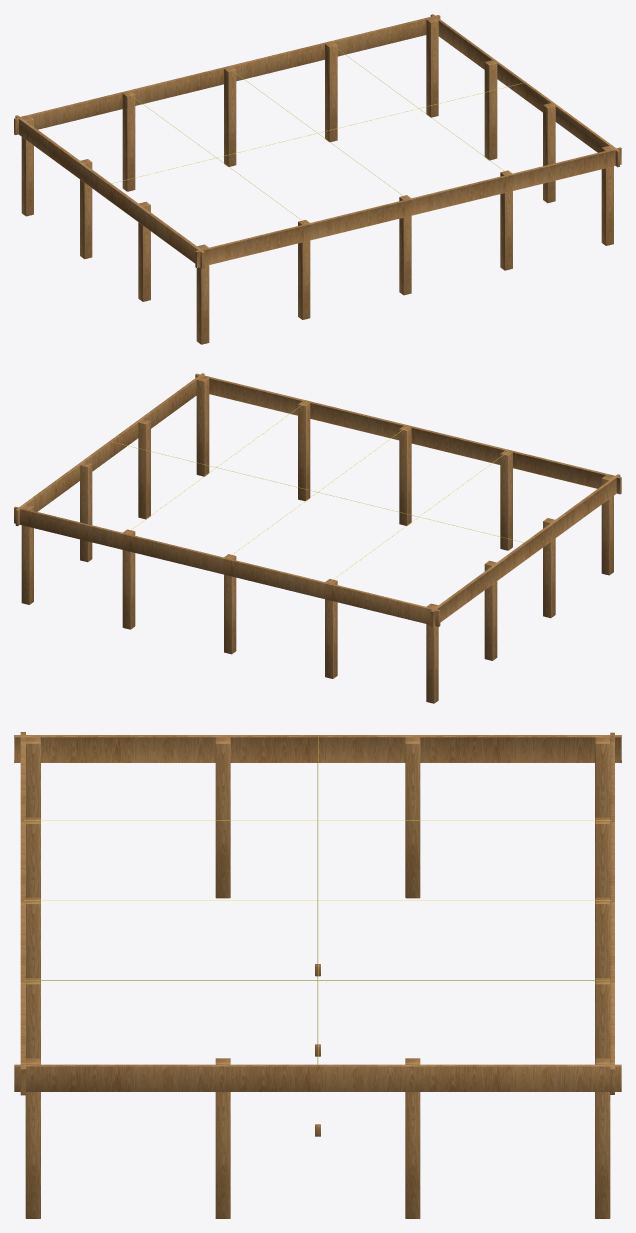
File: SER-LOC-001.glb
3 views of the same model, one above another, from view 1: azimuth 30°, elevation 25°; view 2: azimuth 150°, elevation 25°; view 3: azimuth 270°, elevation 25° (orthographic). The views are drawn at different scales.
Parts seen in each view (by area): view 1: SER-LOC-001_tabuay-1, SER-LOC-001_tabuay1, SER-LOC-001_tabuax-1, SER-LOC-001_tabuax1, SER-LOC-001_pontalete3, SER-LOC-001_pontalete13, SER-LOC-001_pontalete9, SER-LOC-001_pontalete5, SER-LOC-001_pontalete7, SER-LOC-001_pontalete0, SER-LOC-001_pontalete8, SER-LOC-001_pontalete11 (+6 smaller); view 2: SER-LOC-001_tabuay1, SER-LOC-001_tabuay-1, SER-LOC-001_tabuax-1, SER-LOC-001_tabuax1, SER-LOC-001_pontalete8, SER-LOC-001_pontalete2, SER-LOC-001_pontalete11, SER-LOC-001_pontalete4, SER-LOC-001_pontalete6, SER-LOC-001_pontalete7, SER-LOC-001_pontalete12, SER-LOC-001_pontalete3 (+6 smaller); view 3: SER-LOC-001_tabuax1, SER-LOC-001_tabuax-1, SER-LOC-001_pontalete10, SER-LOC-001_pontalete12, SER-LOC-001_tabuay-1, SER-LOC-001_pontalete11, SER-LOC-001_pontalete13, SER-LOC-001_pontalete9, SER-LOC-001_pontalete8, SER-LOC-001_tabuay1, SER-LOC-001_pontalete1, SER-LOC-001_pontalete3 (+7 smaller).
Boxes of the visible parts, x1,y1,x2,y2 form: SER-LOC-001_tabuay-1: (195,147,621,267); SER-LOC-001_tabuay1: (14,15,440,134); SER-LOC-001_tabuax-1: (15,115,204,268); SER-LOC-001_tabuax1: (430,14,619,167); SER-LOC-001_pontalete3: (122,91,135,191); SER-LOC-001_pontalete13: (484,60,497,160); SER-LOC-001_pontalete9: (426,17,438,117); SER-LOC-001_pontalete5: (224,67,236,166); SER-LOC-001_pontalete7: (325,42,337,142); SER-LOC-001_pontalete0: (196,244,209,344); SER-LOC-001_pontalete8: (601,145,613,245); SER-LOC-001_pontalete11: (543,103,555,203); SER-LOC-001_tabuay1: (14,506,440,626); SER-LOC-001_tabuay-1: (195,373,621,494); SER-LOC-001_tabuax-1: (430,474,620,627); SER-LOC-001_tabuax1: (15,373,204,526); SER-LOC-001_pontalete8: (196,376,209,476); SER-LOC-001_pontalete2: (500,450,512,550); SER-LOC-001_pontalete11: (138,419,150,519); SER-LOC-001_pontalete4: (399,426,411,525); SER-LOC-001_pontalete6: (298,401,310,500); SER-LOC-001_pontalete7: (122,529,135,629); SER-LOC-001_pontalete12: (484,560,497,660); SER-LOC-001_pontalete3: (325,579,337,678); SER-LOC-001_tabuax1: (14,1064,621,1091); SER-LOC-001_tabuax-1: (14,735,621,762); SER-LOC-001_pontalete10: (215,737,230,898); SER-LOC-001_pontalete12: (405,737,420,898); SER-LOC-001_tabuay-1: (20,732,25,1095); SER-LOC-001_pontalete11: (215,1058,230,1218); SER-LOC-001_pontalete13: (405,1058,420,1218); SER-LOC-001_pontalete9: (595,1058,610,1218); SER-LOC-001_pontalete8: (25,1058,40,1218); SER-LOC-001_tabuay1: (610,732,614,1094); SER-LOC-001_pontalete1: (595,737,610,817); SER-LOC-001_pontalete3: (595,817,610,897).
Size of the model in its own units: 4.2 by 0.903 by 3.2.
Materials: 2 (1 with a texture image).
